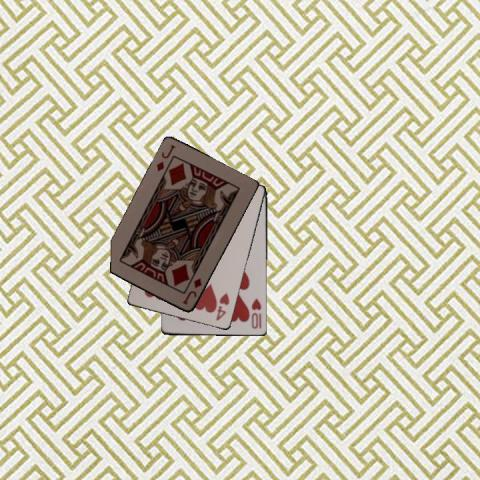10h: (249, 295, 262, 330)
4h: (213, 290, 231, 323)
Jd: (180, 275, 204, 306), (153, 142, 177, 173)
